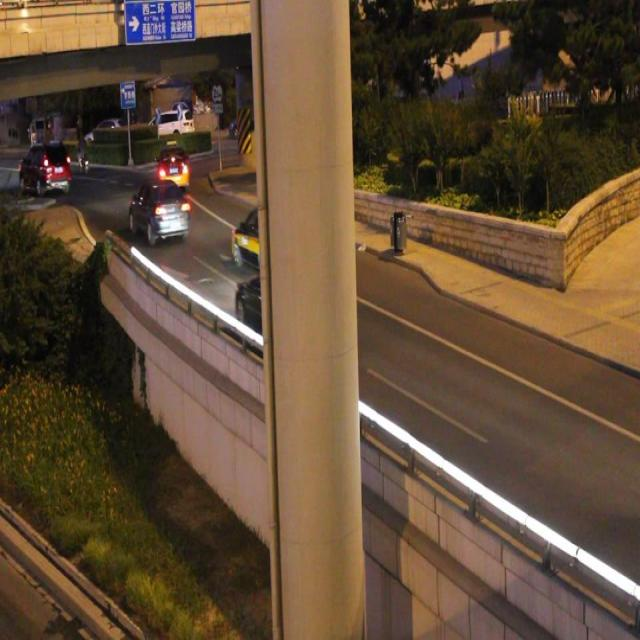car: (235, 248, 352, 361), (231, 193, 314, 279), (128, 178, 190, 244), (154, 141, 189, 191)
